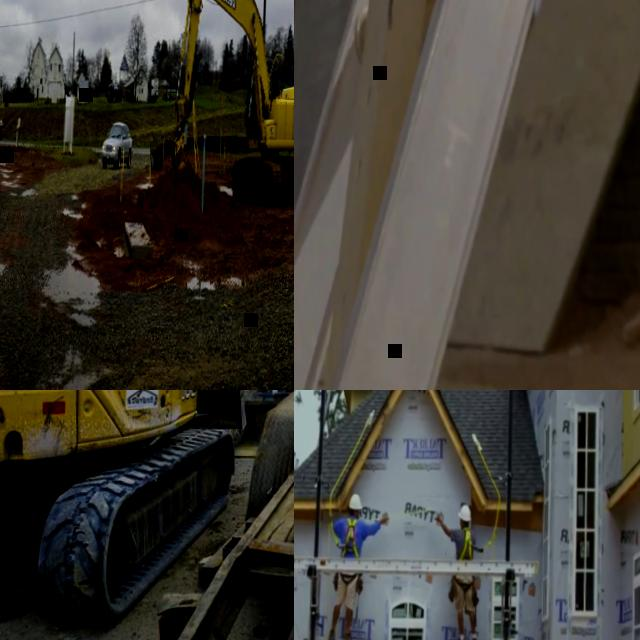Hardhat: (458, 505, 472, 523), (348, 493, 362, 510)
NO-Mask: (460, 522, 463, 529), (356, 513, 360, 518)
NO-Safety Vest: (341, 518, 364, 558), (456, 529, 475, 558)
Person: (329, 493, 390, 640), (430, 503, 480, 640)
vehicle: (0, 390, 257, 633), (149, 0, 294, 213), (103, 120, 134, 169)
